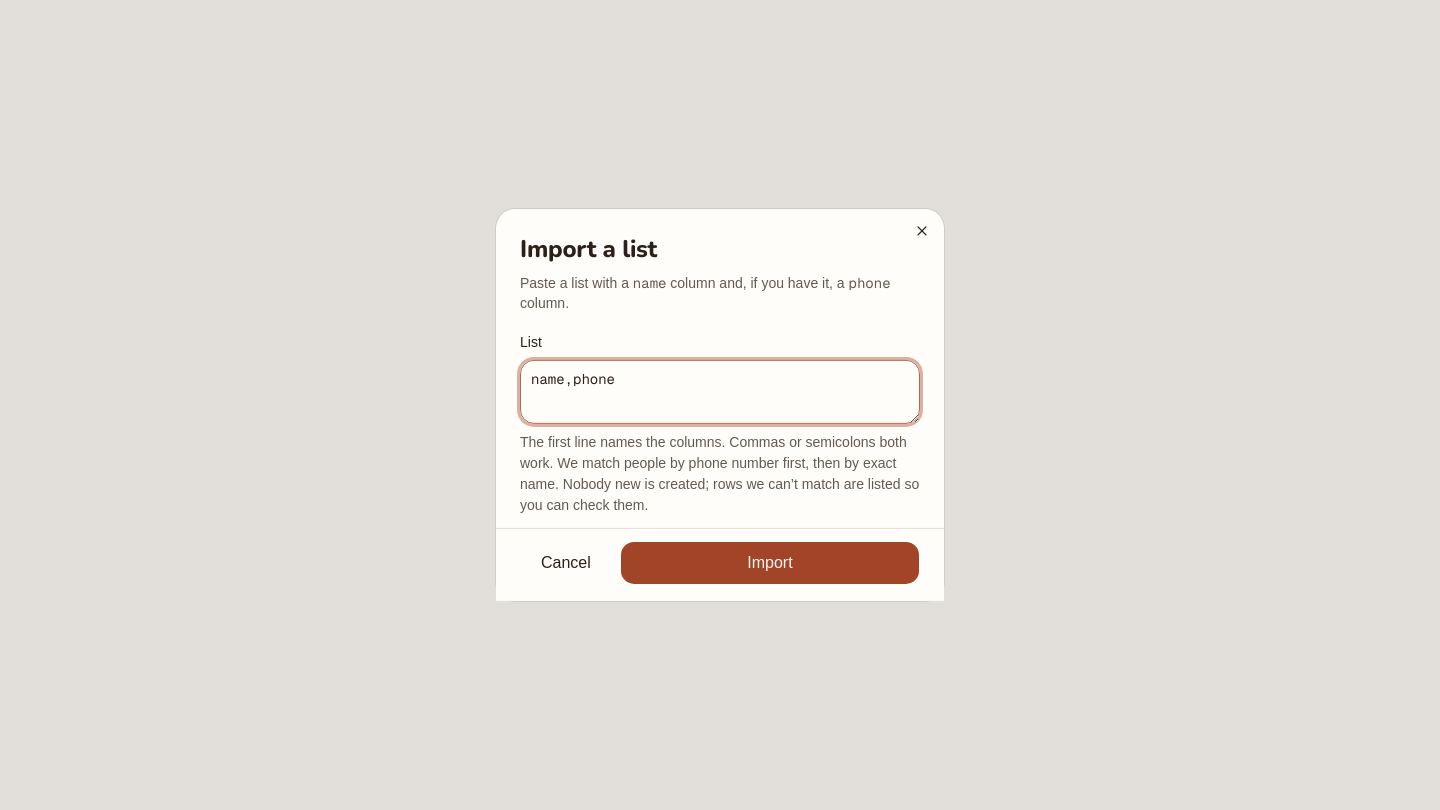
CsvImportDialog (M9) › lists the rows that didn't match anyone after importing
Click the button "Import" at (770, 563), box [620,541,920,585]
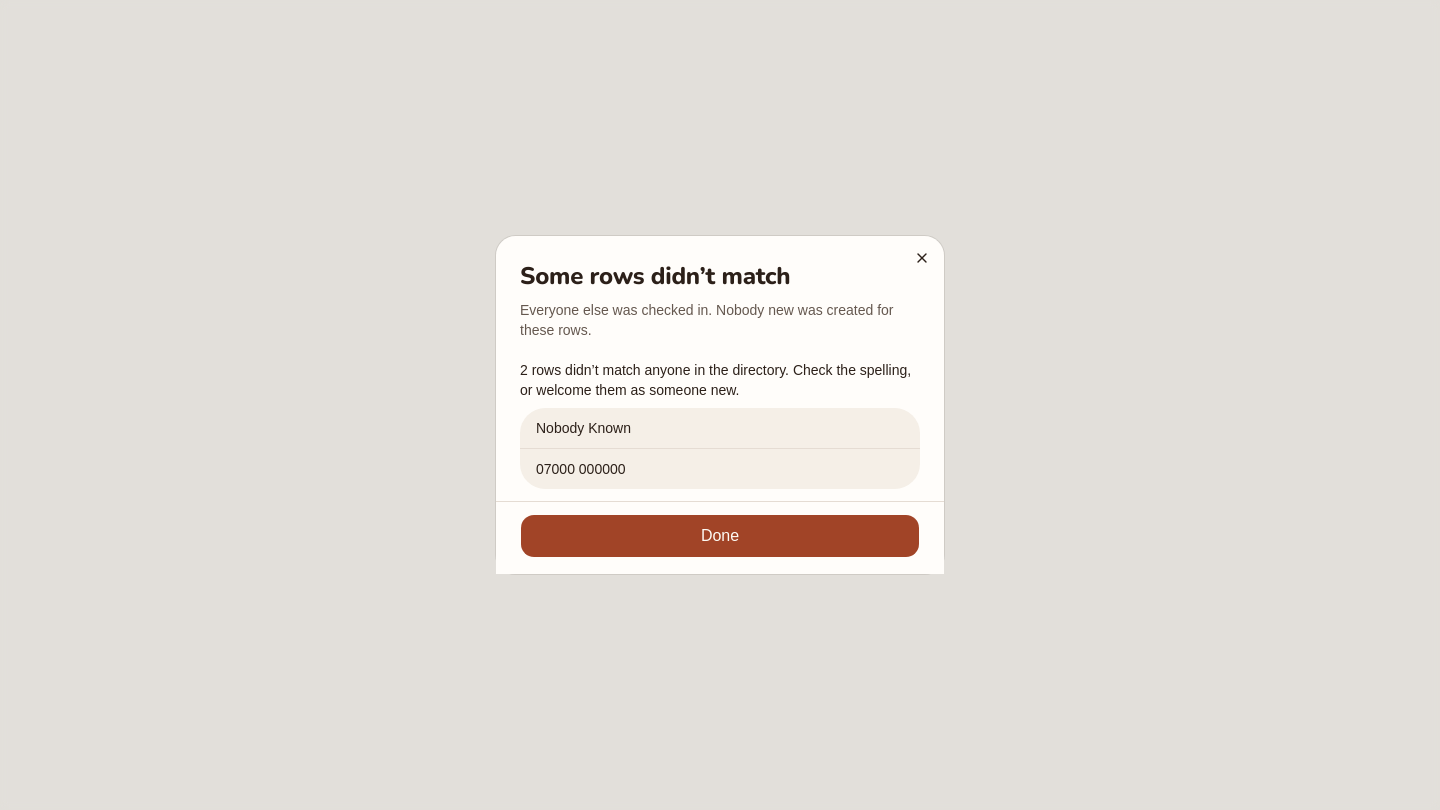
Expected: the list item "Nobody Known" is shown, [520,408,920,449]
Expected: the list item "07000 000000" is shown, [536,461,626,477]
